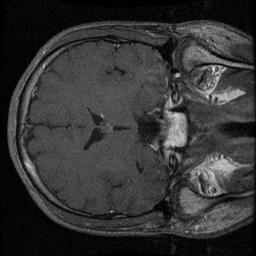pituitary tumour: (153, 95, 189, 163)
